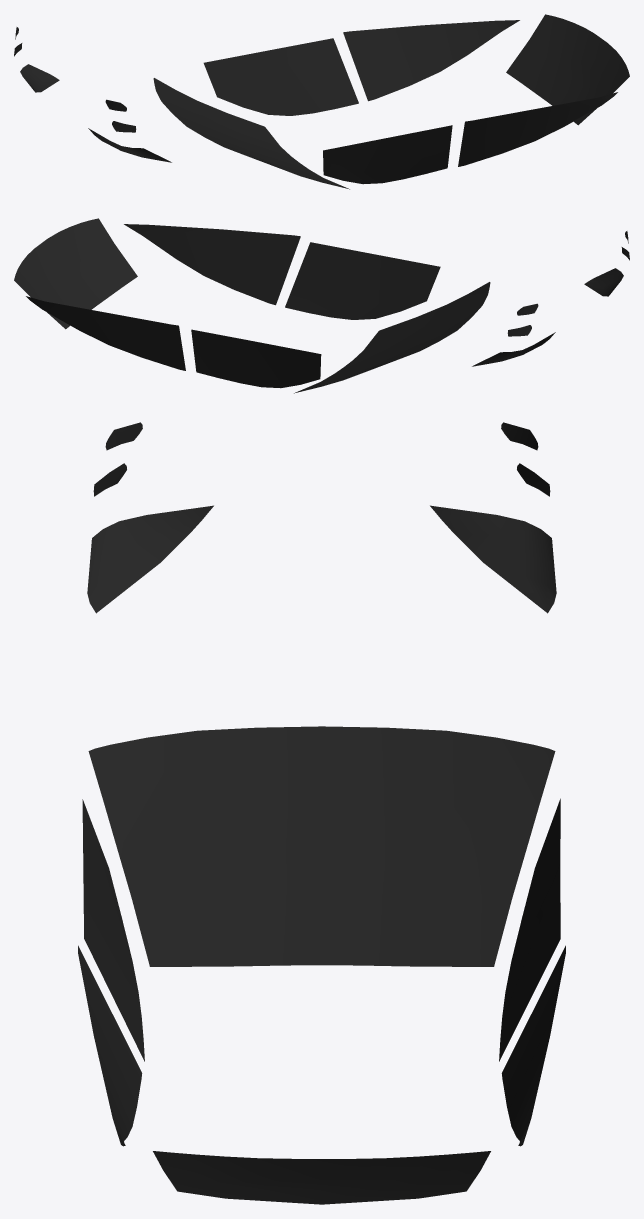
The model's file is FN_glass_d2.obj.
The picture shows the model from 3 angles, top to bottom: view 1: azimuth 30°, elevation 25°; view 2: azimuth 150°, elevation 25°; view 3: azimuth 270°, elevation 25°; orthographic projection. The views are drawn at different scales.
Parts seen in each view (by area): view 1: FN_glass; view 2: FN_glass; view 3: FN_glass.
Boxes of the visible parts, bbox=[...] form: FN_glass: bbox=[14, 14, 629, 189]; FN_glass: bbox=[14, 218, 629, 393]; FN_glass: bbox=[78, 422, 565, 1204].
Bounding box in the file's own units: 3.89 × 1.06 × 1.52.
Materials: 1 (1 with a texture image).
